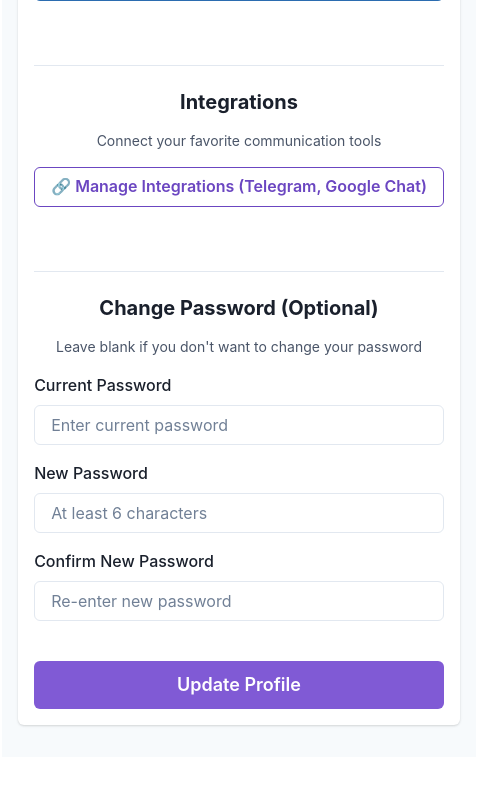
Test case: Profile page › validates that new passwords match before submitting
The width and height of the screenshot is (479, 789).
(page scrolled)
Type "newpass1" into the password field with placeholder "At least 6 characters". click: (239, 513)
box: top-left (34, 493), bottom-right (444, 533)
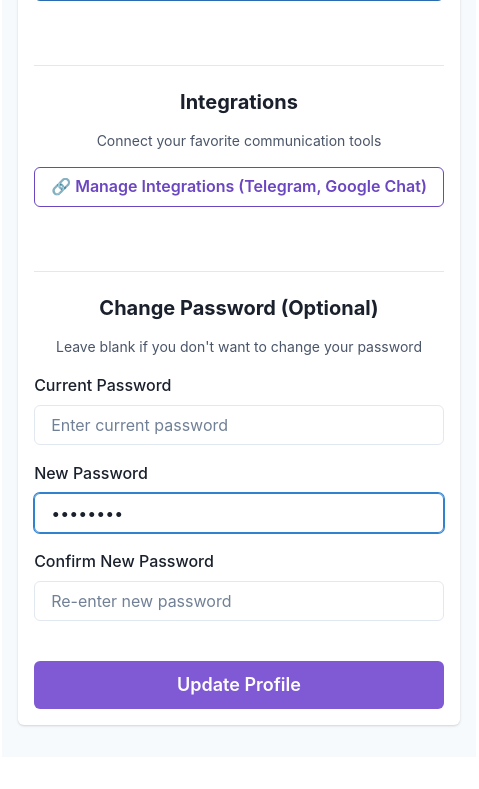
Type "newpass2" into the password field with placeholder "Re-enter new password". click: (239, 601)
box: top-left (34, 581), bottom-right (444, 621)
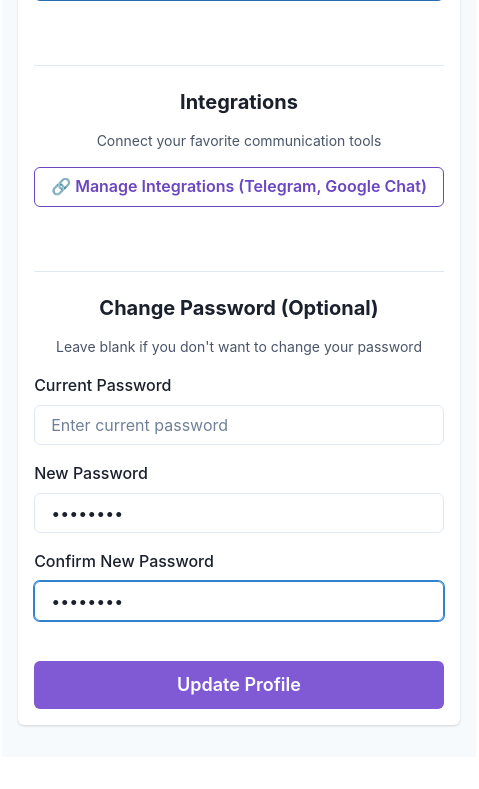
Click the button "Update Profile". click: (239, 685)
box: top-left (34, 661), bottom-right (444, 709)
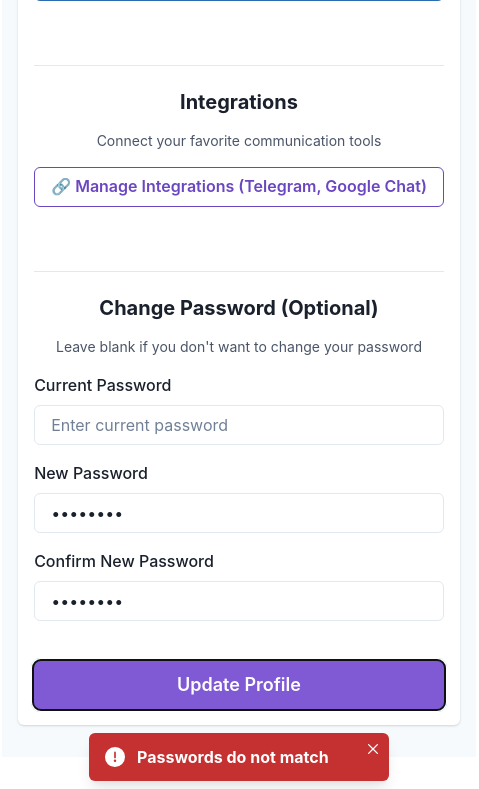
Now the text "Passwords do not match" is shown, box top-left (137, 745), bottom-right (349, 769)
